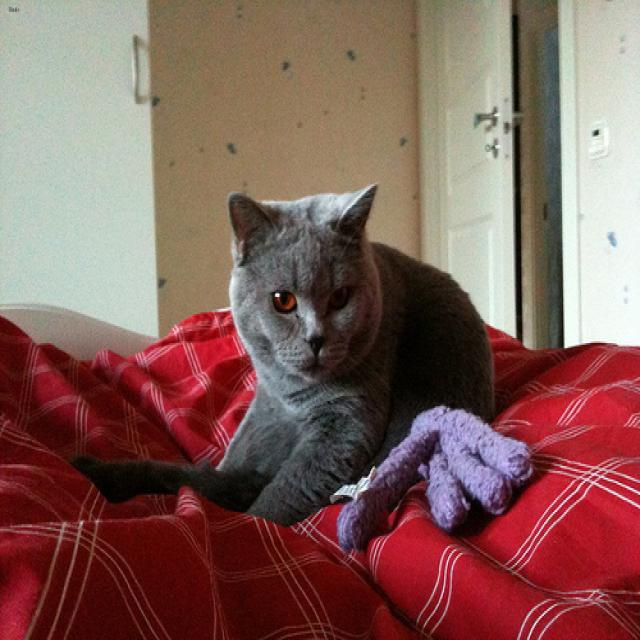British_Shorthair: (227, 181, 375, 379)
